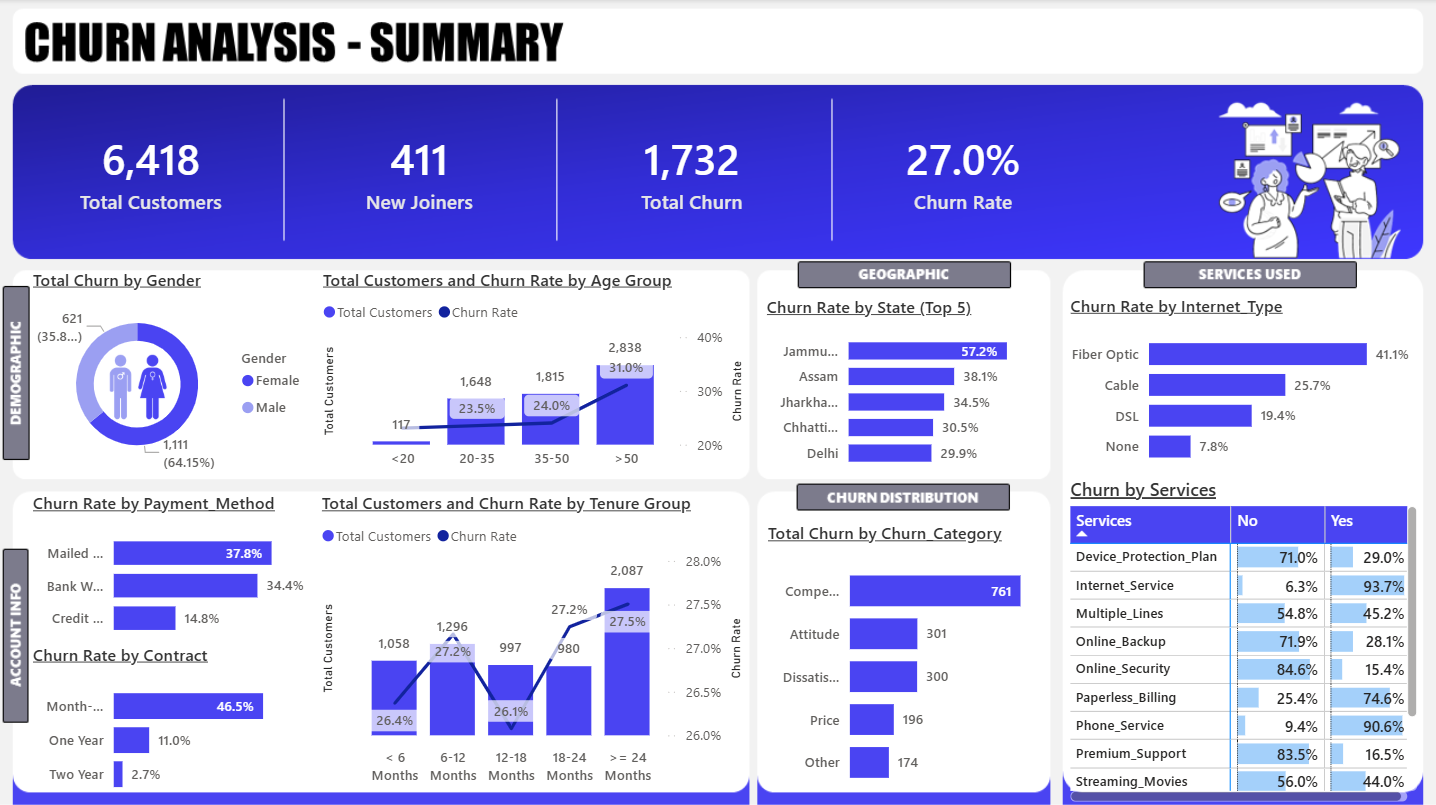

The page's visual inventory and layout, read from the dashboard file:
{"tool":"powerbi","page":{"name":"Summary","canvas":[1280,720],"ordinal":0},"visuals":[{"type":"image","box":[77.1,307.1,92.9,74.3],"z":0},{"type":"card","fields":{"Values":["tbl_Measures.Total Customers"]},"box":[17.2,81,235.6,144.8],"z":1000},{"type":"card","fields":{"Values":["tbl_Measures.Churn Rate"]},"box":[747.2,81,222.1,144.8],"z":2000},{"type":"card","fields":{"Values":["tbl_Measures.New Joiners"]},"box":[252.8,81,241.7,144.8],"z":3000},{"type":"card","fields":{"Values":["tbl_Measures.Total Churn"]},"box":[494.5,81,244.2,144.8],"z":4000},{"type":"donutChart","fields":{"Category":["prod_Churn.Gender"],"Y":["tbl_Measures.Total Churn"]},"box":[24.5,239.3,257.7,187.7],"z":5000},{"type":"lineStackedColumnComboChart","fields":{"Category":["mapping_AgeGrp.Age Group"],"Y":["tbl_Measures.Total Customers"],"Y2":["tbl_Measures.Churn Rate"]},"box":[282.2,239.3,385.3,187.7],"z":6000},{"type":"clusteredBarChart","fields":{"Category":["prod_Churn.Payment_Method"],"Y":["tbl_Measures.Churn Rate"]},"box":[24.3,438.6,257.1,141.4],"z":7000},{"type":"clusteredBarChart","fields":{"Category":["prod_Churn.Contract"],"Y":["tbl_Measures.Churn Rate"]},"box":[24.3,572.9,255.7,147.1],"z":8000},{"type":"lineStackedColumnComboChart","fields":{"Category":["mapping_TenureGrp.Tenure Group"],"Y":["tbl_Measures.Total Customers"],"Y2":["tbl_Measures.Churn Rate"]},"box":[281.7,438.3,385,268.3],"z":9000},{"type":"clusteredBarChart","title":"Churn Rate by State (Top 5)  ","fields":{"Category":["prod_Churn.State"],"Y":["tbl_Measures.Churn Rate"]},"box":[678.3,263.3,258.3,163.3],"z":10000},{"type":"clusteredBarChart","fields":{"Category":["prod_Churn.Churn_Category"],"Y":["tbl_Measures.Total Churn"]},"box":[678.6,465.7,258.6,250],"z":11000},{"type":"clusteredBarChart","fields":{"Category":["prod_Churn.Internet_Type"],"Y":["tbl_Measures.Churn Rate"]},"box":[948.6,262.9,318.6,162.9],"z":12000},{"type":"pivotTable","title":"Churn by Services ","fields":{"Rows":["prod_Services.Services"],"Columns":["prod_Services.Status"],"Values":["Sum(prod_Services.Churn Status)"]},"box":[948.6,425.7,318.6,294.3],"z":13000}]}

Visuals, with their boxes in screenshot pixels (x1, y1, x2, y2), scaled from the page's 1280x720 canvas onto the 1436x805 screenshot:
image: x1=86 y1=343 x2=191 y2=426
card - tbl_Measures.Total Customers: x1=19 y1=91 x2=284 y2=252
card - tbl_Measures.Churn Rate: x1=838 y1=91 x2=1087 y2=252
card - tbl_Measures.New Joiners: x1=284 y1=91 x2=555 y2=252
card - tbl_Measures.Total Churn: x1=555 y1=91 x2=829 y2=252
donutChart - prod_Churn.Gender x tbl_Measures.Total Churn: x1=27 y1=268 x2=317 y2=477
lineStackedColumnComboChart - mapping_AgeGrp.Age Group x tbl_Measures.Total Customers: x1=317 y1=268 x2=749 y2=477
clusteredBarChart - prod_Churn.Payment_Method x tbl_Measures.Churn Rate: x1=27 y1=490 x2=316 y2=648
clusteredBarChart - prod_Churn.Contract x tbl_Measures.Churn Rate: x1=27 y1=641 x2=314 y2=804
lineStackedColumnComboChart - mapping_TenureGrp.Tenure Group x tbl_Measures.Total Customers: x1=316 y1=490 x2=748 y2=790
"Churn Rate by State (Top 5)  " clusteredBarChart: x1=761 y1=294 x2=1051 y2=477
clusteredBarChart - prod_Churn.Churn_Category x tbl_Measures.Total Churn: x1=761 y1=521 x2=1051 y2=800
clusteredBarChart - prod_Churn.Internet_Type x tbl_Measures.Churn Rate: x1=1064 y1=294 x2=1422 y2=476
"Churn by Services " pivotTable: x1=1064 y1=476 x2=1422 y2=804
